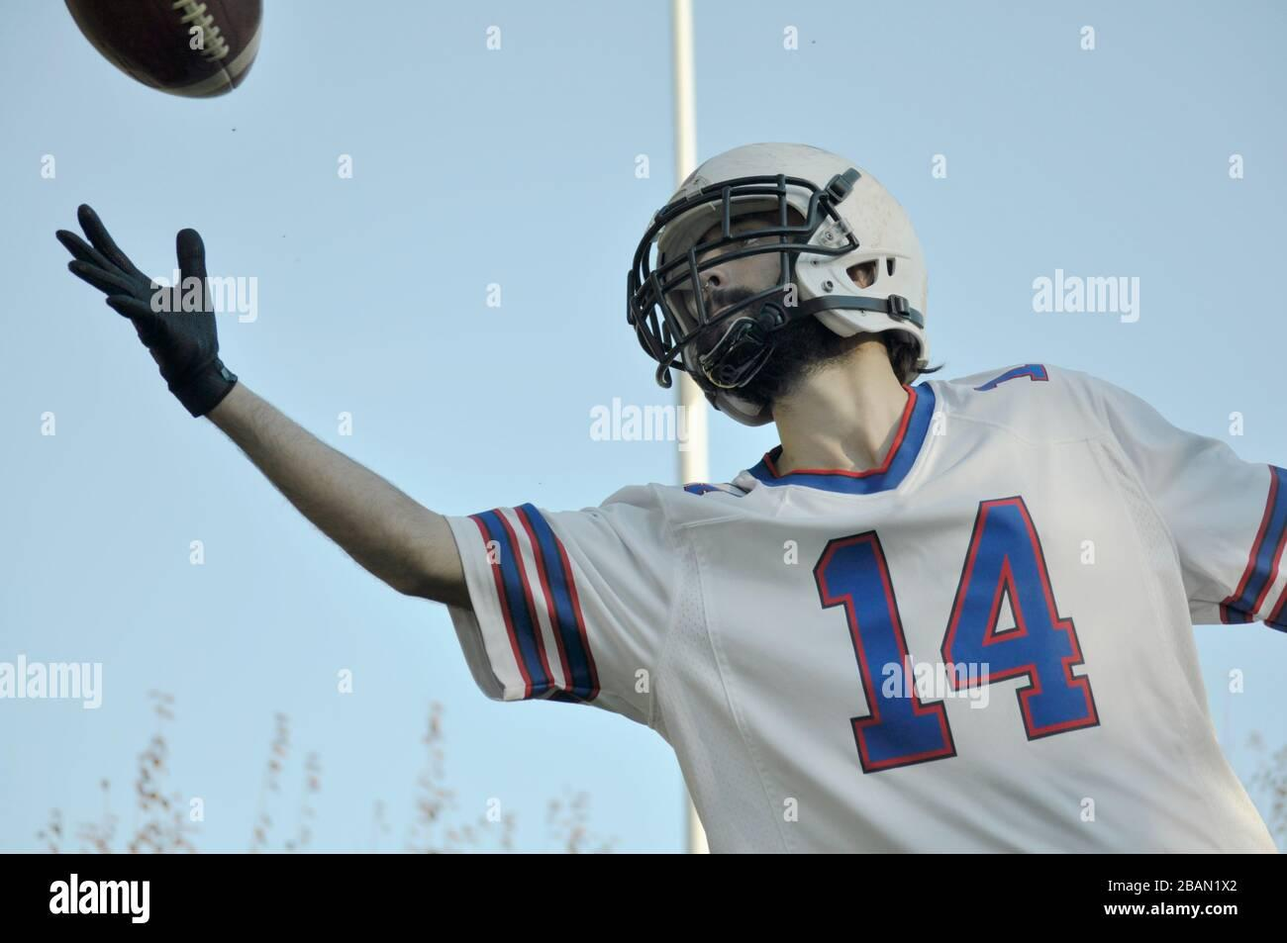americanFootball: (65, 0, 274, 107)
